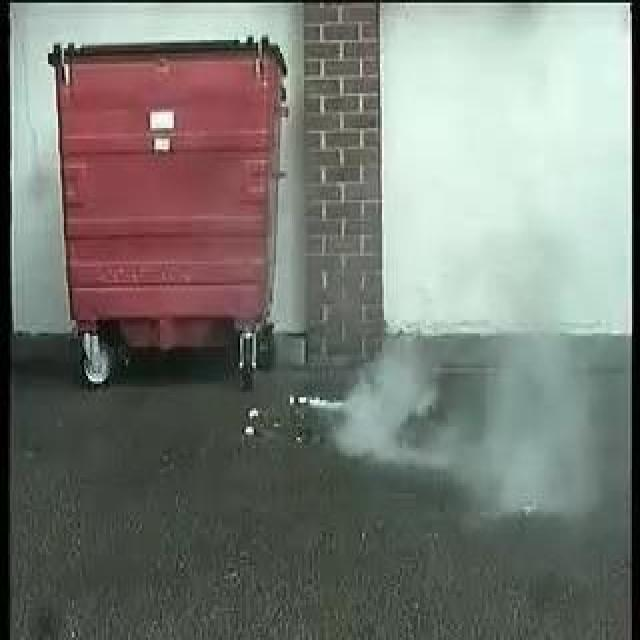Smoke: (324, 332, 470, 471)
